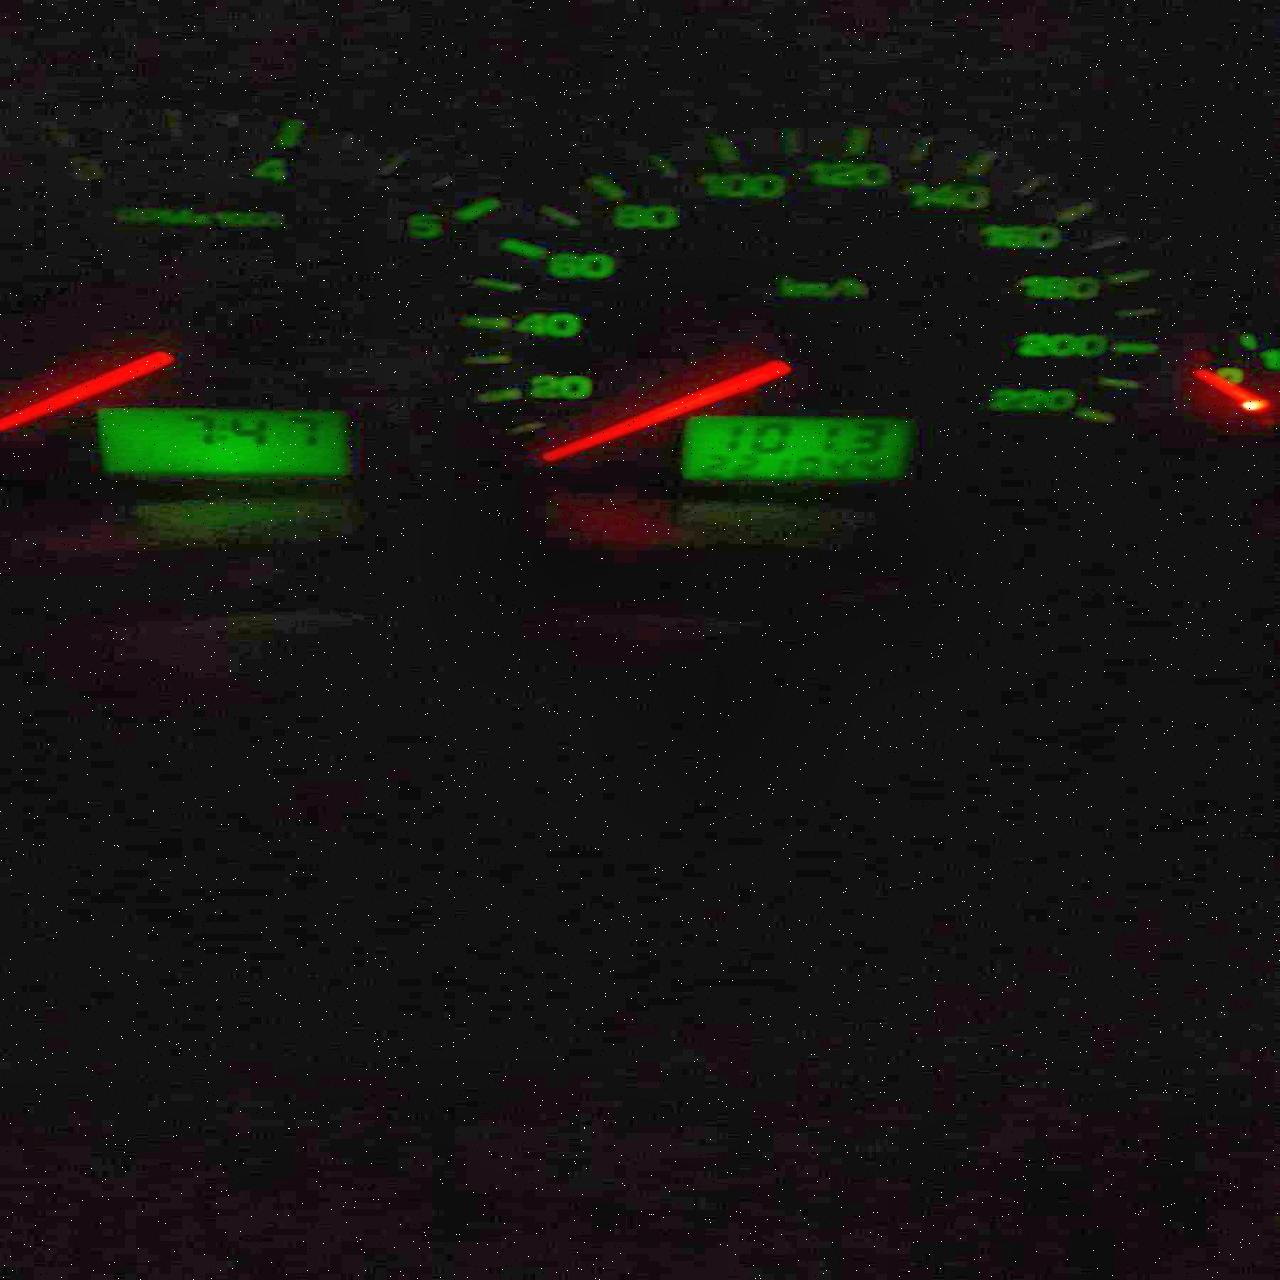0: (748, 420, 788, 452), (794, 455, 824, 477)
1: (817, 424, 840, 452), (722, 423, 744, 452), (772, 456, 794, 478)
2: (699, 452, 727, 478), (730, 454, 758, 479)
3: (846, 421, 886, 454)
4: (856, 457, 887, 477), (826, 457, 849, 477)
odometer: (678, 414, 915, 483)
